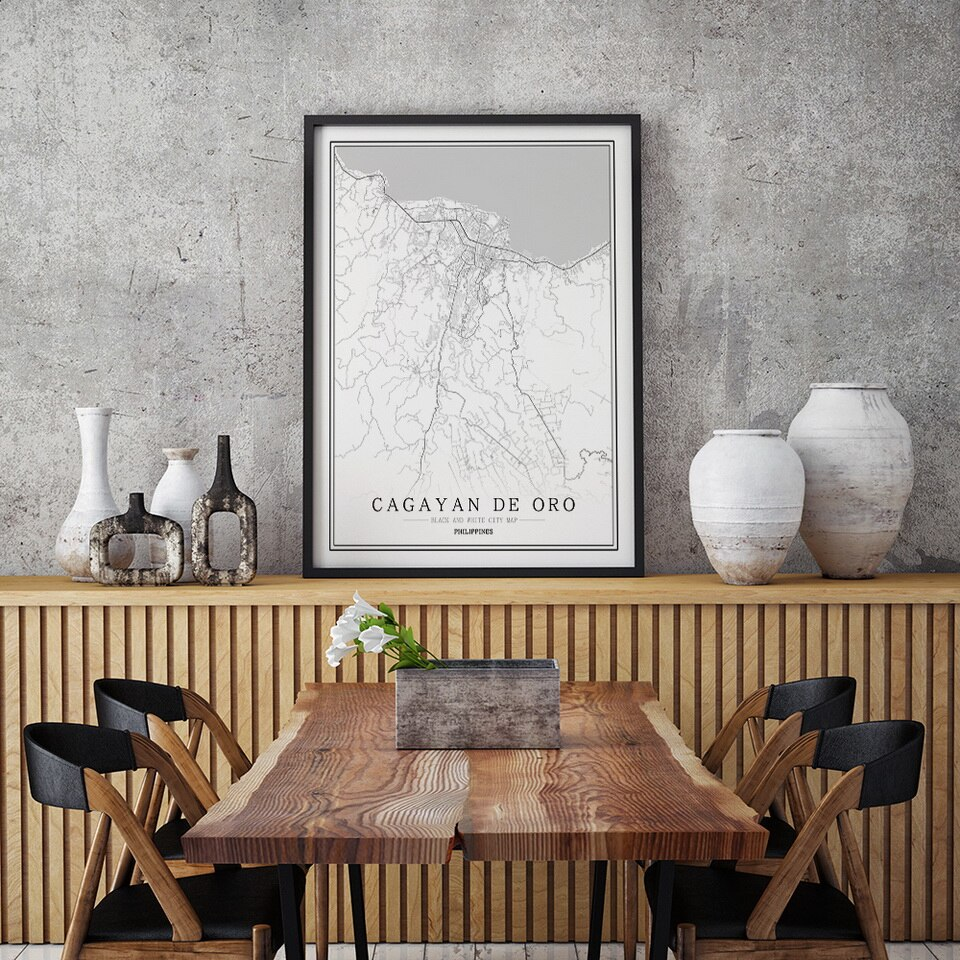kursi: (647, 711, 929, 956), (17, 715, 292, 960)
lukisan: (293, 106, 649, 583)
meja: (175, 681, 768, 865)
tanaman: (324, 591, 440, 665)
